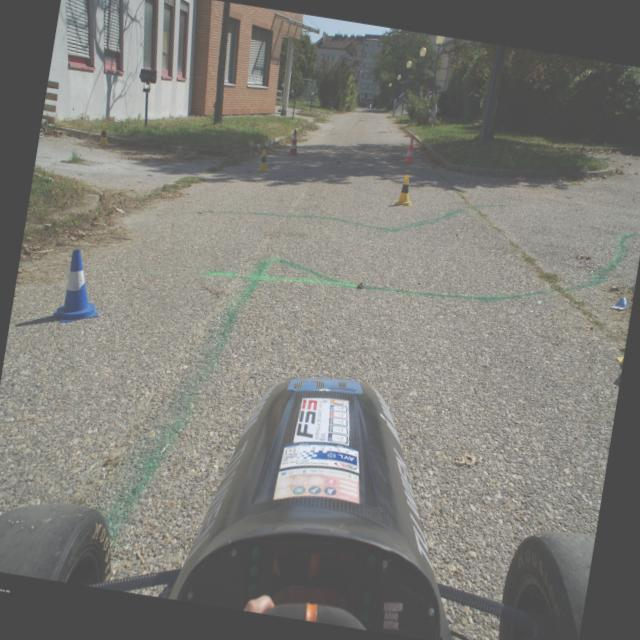blue_cone: (52, 247, 108, 328)
large_orange_cone: (402, 134, 420, 164), (286, 129, 302, 157)
yellow_cone: (393, 174, 418, 208), (256, 148, 272, 174)
